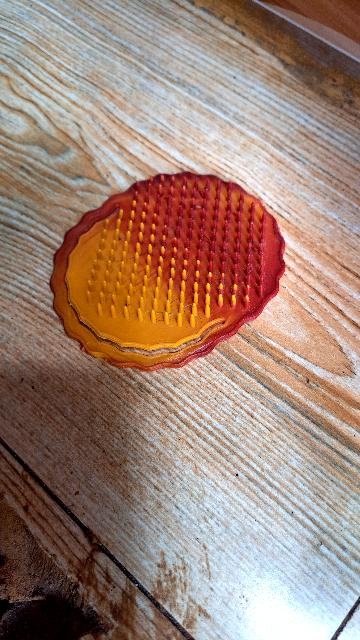hardplastic: (60, 169, 280, 362)
